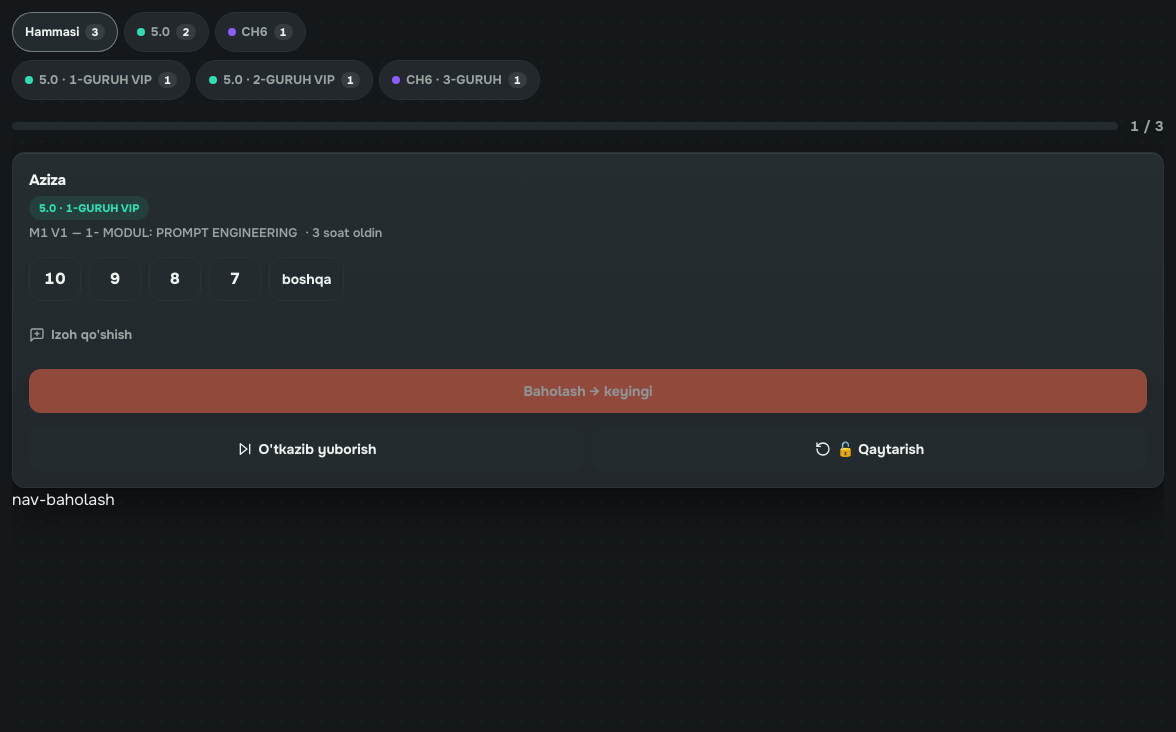
TeacherGrade course + group filter › changing the filter clears a picked score, so it never lands on another student
This screenshot has width=1176, height=732.
Expected: the text "Aziza" is shown, left=29, top=170, right=66, bottom=190
Click the button "9": click(115, 279) left=89, top=257, right=141, bottom=301
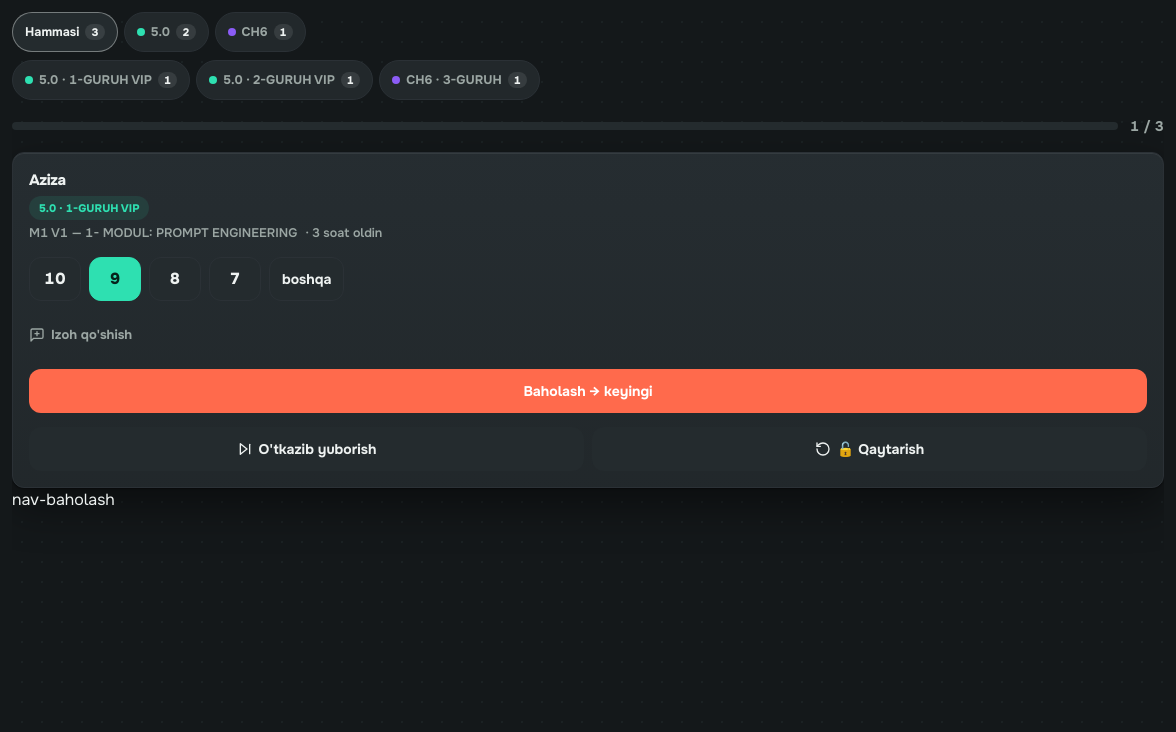
Expected: the button "9" is pressed, left=89, top=257, right=141, bottom=301
Click the button with aria-label "CH6 (1)": click(260, 32) left=214, top=12, right=306, bottom=52
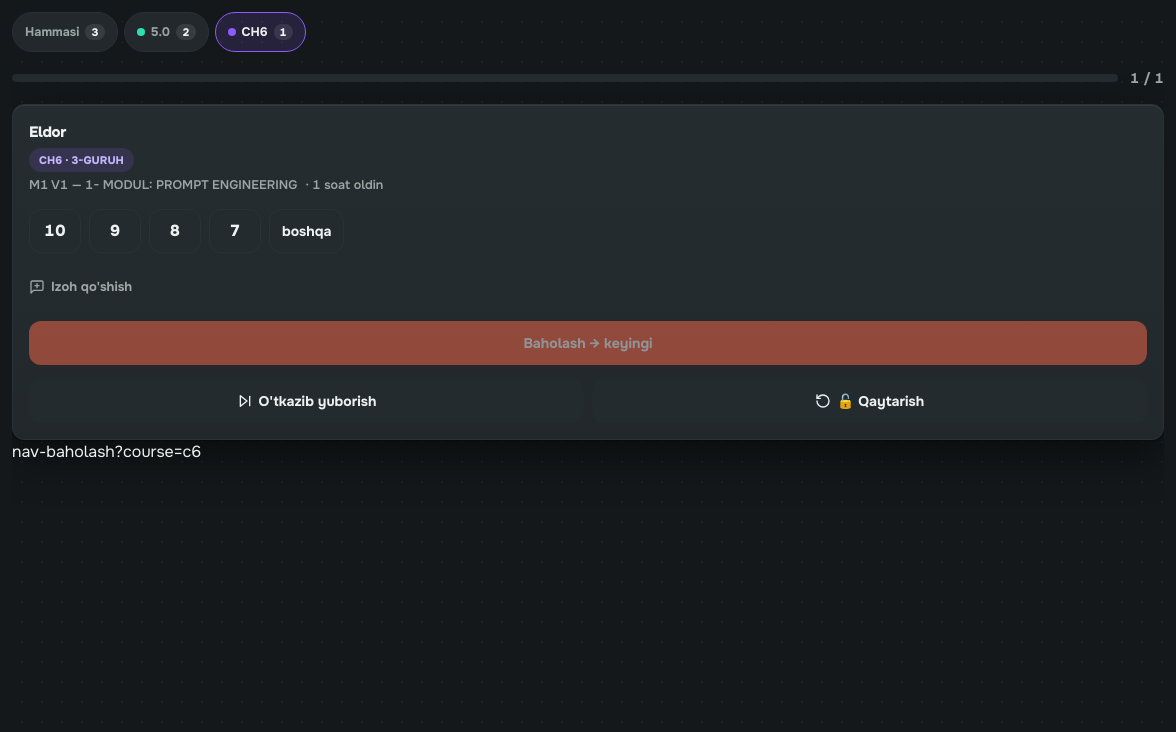
Expected: the text "Eldor" is shown, left=29, top=122, right=66, bottom=142
